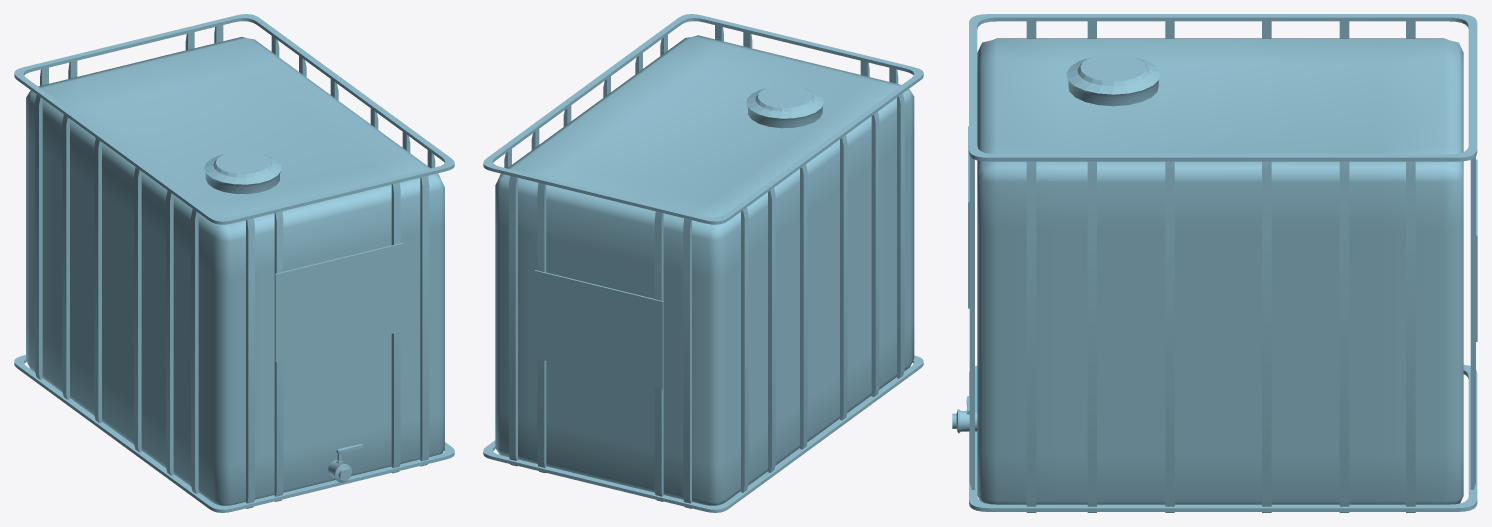
File: ibc_container.FBX
The picture shows the model from 3 angles, left to right: view 1: azimuth 30°, elevation 25°; view 2: azimuth 150°, elevation 25°; view 3: azimuth 270°, elevation 25°; orthographic projection. The views are drawn at different scales.
Visible parts, largest first — view 1: ibc_container; view 2: ibc_container; view 3: ibc_container.
Boxes of the visible parts, x1,y1,x2,y2 form: ibc_container: (14, 14, 454, 512); ibc_container: (483, 14, 923, 512); ibc_container: (952, 14, 1477, 512).
Bounding box in the file's own units: 89.13 × 104 × 138.
